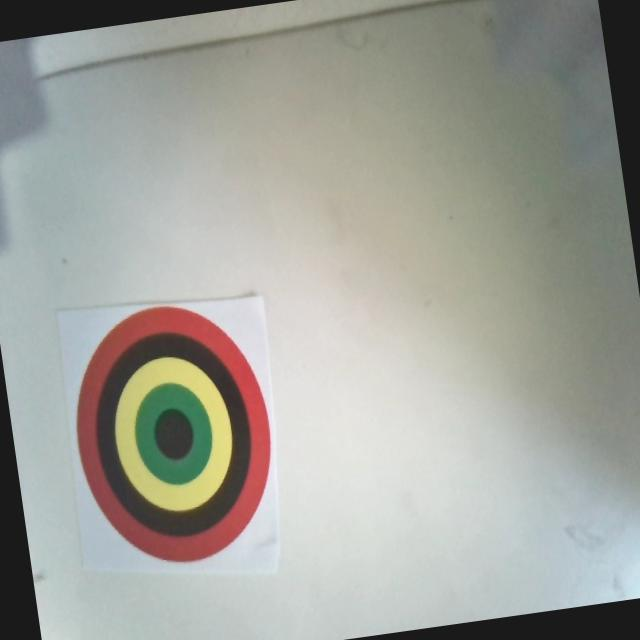cogn: (61, 292, 288, 576)
